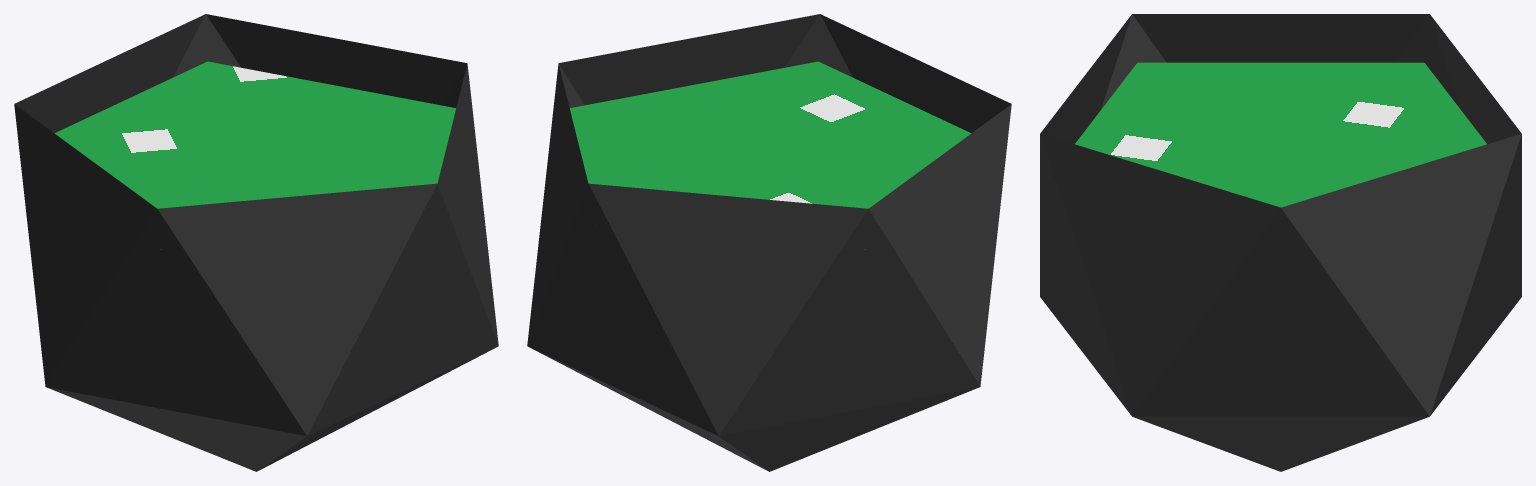
File: cauldron_model.glb
The picture shows the model from 3 angles, left to right: view 1: azimuth 30°, elevation 25°; view 2: azimuth 150°, elevation 25°; view 3: azimuth 270°, elevation 25°; orthographic projection. The views are drawn at different scales.
Parts seen in each view (by area): view 1: Cylinder; view 2: Cylinder; view 3: Cylinder.
Boxes of the visible parts, x1,y1,x2,y2 form: Cylinder: (14,14,498,471); Cylinder: (527,14,1011,471); Cylinder: (1040,14,1521,471).
Size of the model in its own units: 1.79 by 1.45 by 1.7.
Materials: 2 (1 with a texture image).
